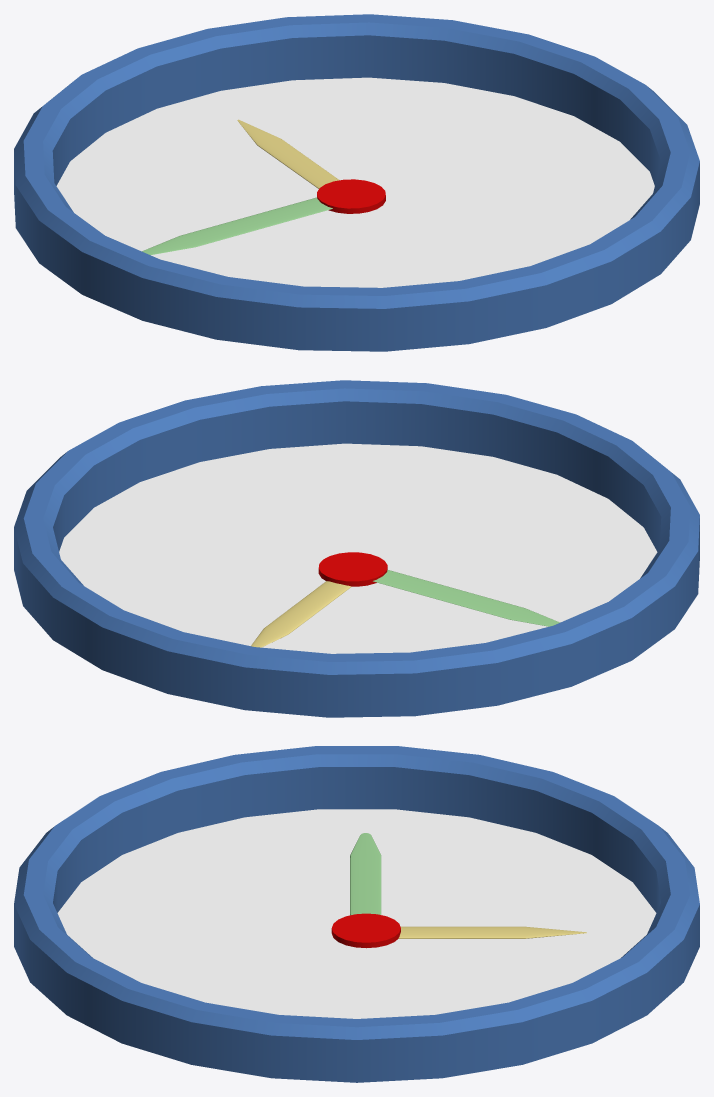
Rendered from OBJ_RELOJ.fbx.
3 renders of one model, top to bottom at view 1: azimuth 30°, elevation 25°; view 2: azimuth 150°, elevation 25°; view 3: azimuth 270°, elevation 25°, orthographic.
Visible parts, largest first — view 1: reloj1, manecilla1, manecilla2; view 2: reloj1, manecilla1, manecilla2; view 3: reloj1, manecilla1, manecilla2.
Boxes of the visible parts, bbox=[...] form: reloj1: bbox=[14, 14, 699, 351]; manecilla1: bbox=[142, 197, 332, 255]; manecilla2: bbox=[237, 119, 339, 188]; reloj1: bbox=[14, 380, 699, 717]; manecilla1: bbox=[373, 569, 559, 626]; manecilla2: bbox=[251, 581, 351, 647]; reloj1: bbox=[14, 746, 699, 1082]; manecilla1: bbox=[350, 833, 381, 915]; manecilla2: bbox=[398, 926, 586, 938].
Bounding box in the file's own units: 6.73 × 0.5611 × 6.75.
